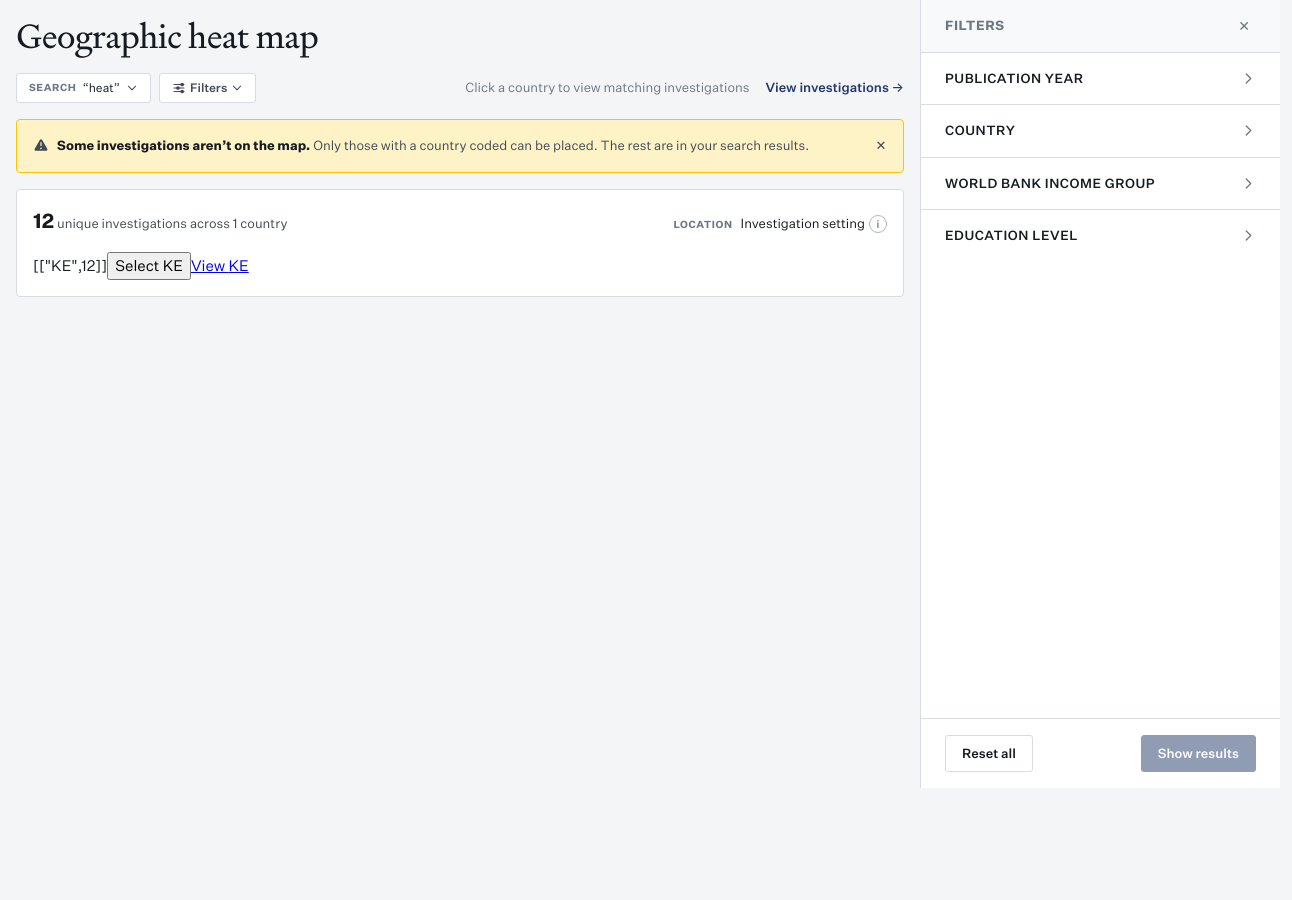
Test: GeographicHeatMapPage › warns that some aren't on the map until dismissed
The width and height of the screenshot is (1292, 900).
Check: the text "Only those with a country coded" is shown, box [313, 138, 809, 152]
Click the button named "Close" at (881, 146), box [869, 134, 893, 158]
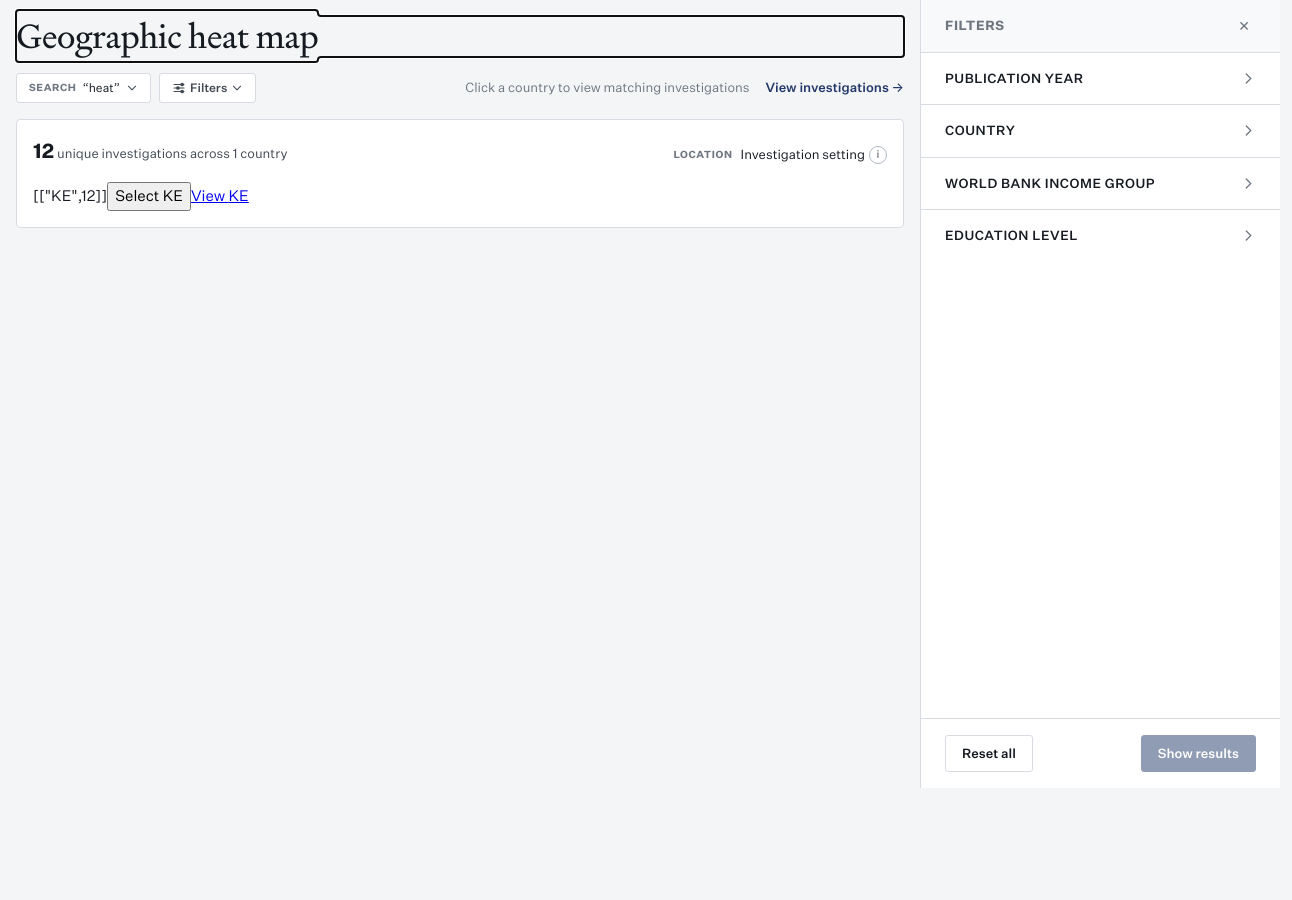
Check: the text "Only those with a country coded" is gone
